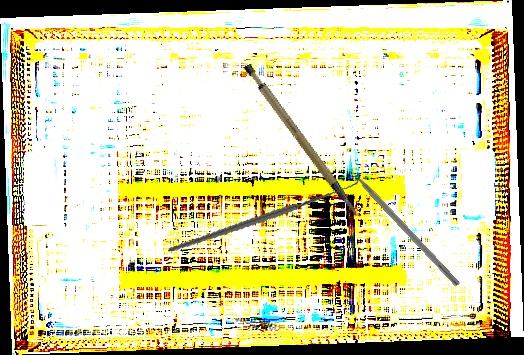Chopper: (340, 153, 468, 288)
Hook Surgical: (166, 139, 362, 286)
Scalpel Handle: (241, 52, 359, 231)
